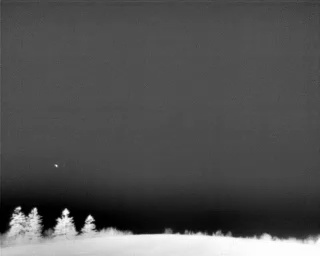BIRD: (53, 161, 60, 170)
